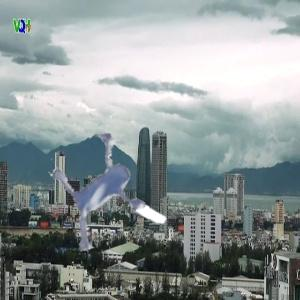drone: (29, 118, 198, 287)
